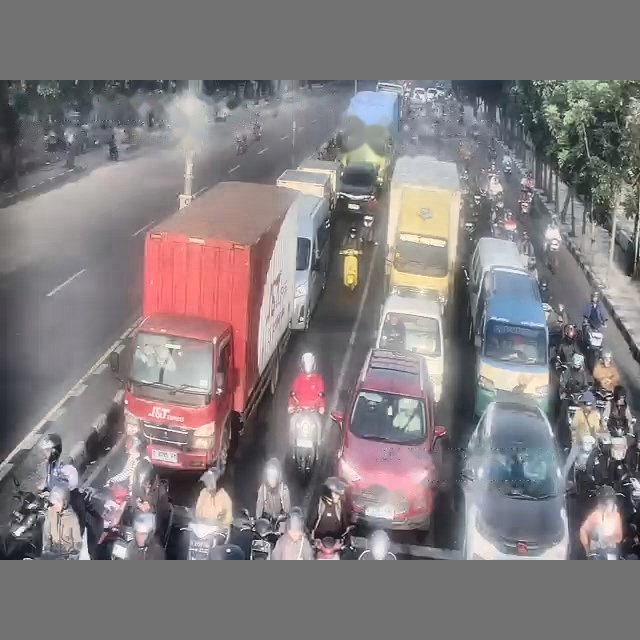Mobil: (331, 349, 446, 535), (461, 399, 569, 559), (411, 87, 426, 105), (425, 87, 438, 103)
Motor: (1, 478, 47, 559), (290, 407, 322, 481), (244, 510, 286, 559), (181, 519, 230, 559), (314, 525, 354, 559), (582, 319, 603, 369), (340, 248, 362, 291), (546, 238, 560, 273), (362, 215, 373, 243), (235, 136, 247, 154), (108, 144, 118, 161)
Truk: (120, 182, 301, 471), (385, 155, 460, 307), (339, 91, 399, 187)
